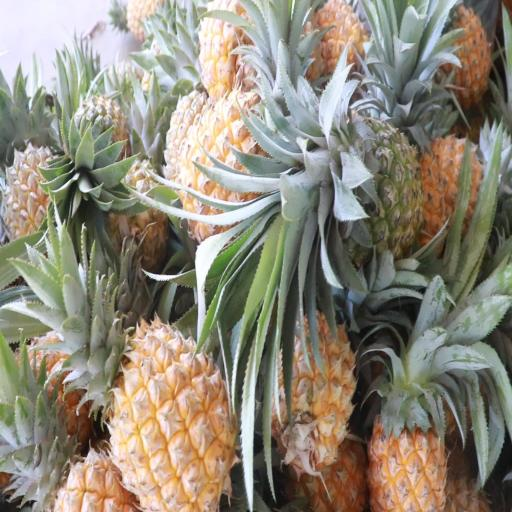Pineapple - v8 v1: (86, 295, 238, 510), (178, 80, 319, 240), (365, 295, 454, 512), (272, 300, 357, 474)
